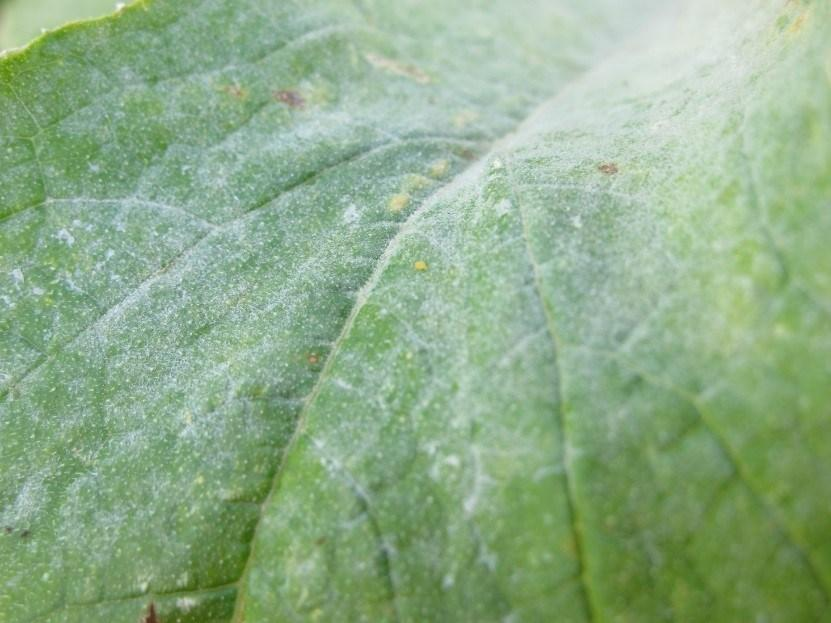Squash Powdery mildew leaf: (9, 5, 831, 541)
